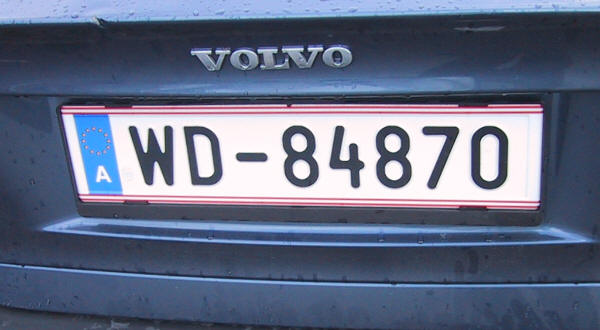license_plate: (57, 103, 543, 210)
